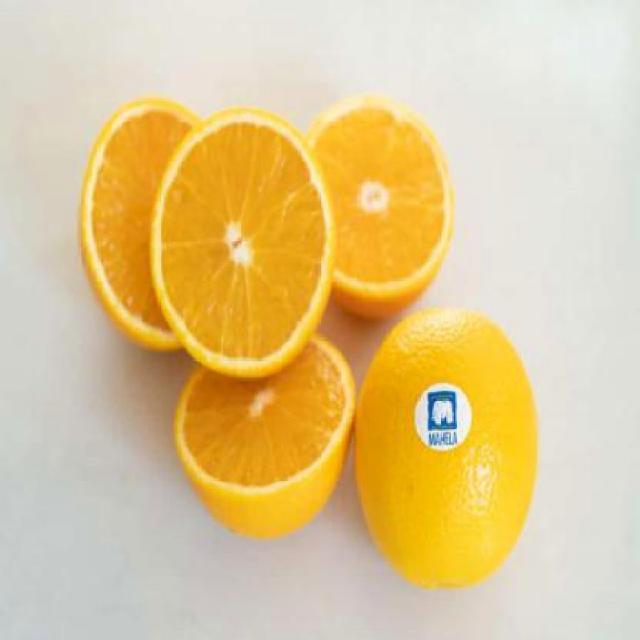Jeruk Sudah Matang: (356, 306, 538, 585)
